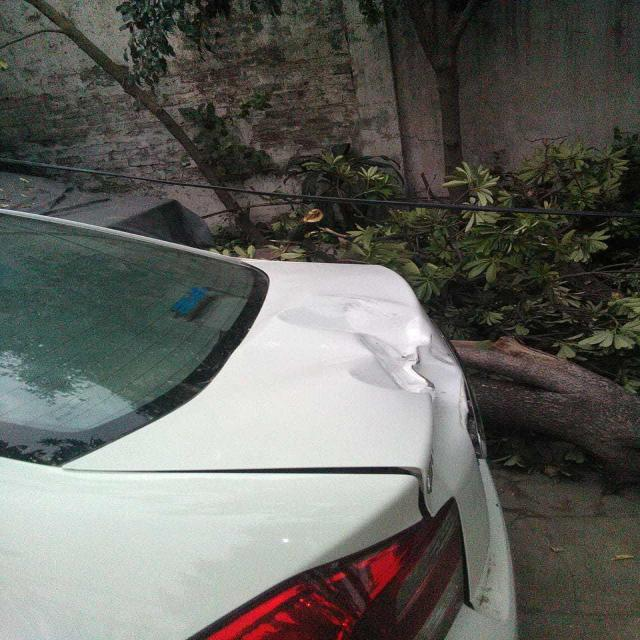dent: (274, 294, 473, 492)
